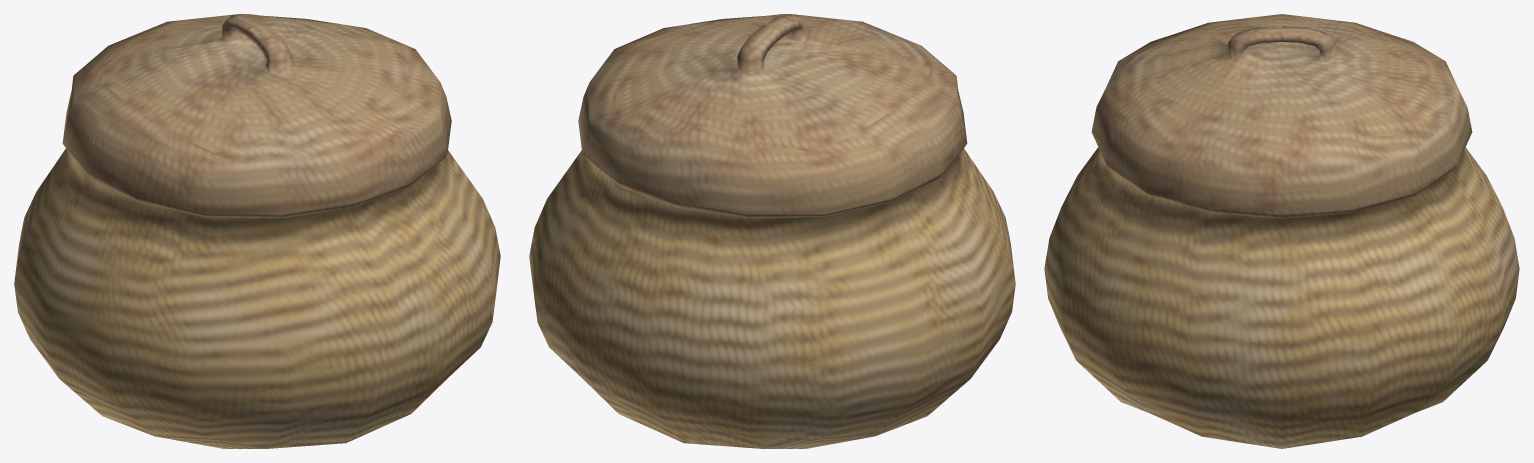
File: B49_4CestoBasket.FBX
3 views of the same model, side by side, from view 1: azimuth 30°, elevation 25°; view 2: azimuth 150°, elevation 25°; view 3: azimuth 270°, elevation 25° (orthographic).
Parts seen in each view (by area): view 1: 4.Cesto basket; view 2: 4.Cesto basket; view 3: 4.Cesto basket.
Part boxes in pixels (left/top/right/bottom): 4.Cesto basket: left=14, top=14, right=500, bottom=448; 4.Cesto basket: left=529, top=14, right=1015, bottom=448; 4.Cesto basket: left=1044, top=14, right=1519, bottom=448.
Bounding box in the file's own units: 30.96 × 27.07 × 30.59.
Materials: 1 (1 with a texture image).
